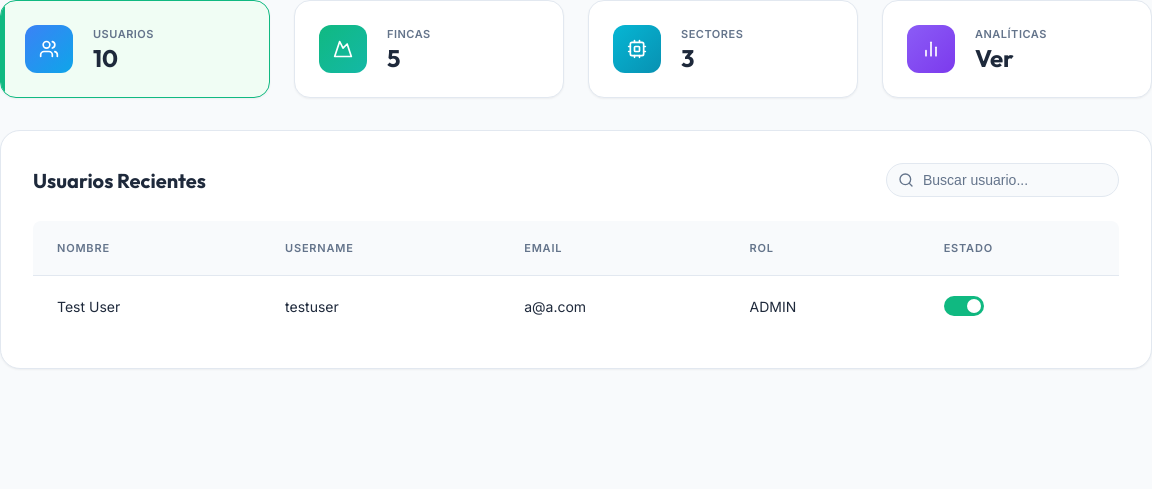
Test: Dashboard Page Component › should show User Stats when clicking Analíticas KPI
Expected: the heading "Usuarios Recientes" is shown, [33,168,206,192]
Step 1. Click the button "Analíticas Ver" → (1011, 34), box [882,0,1151,98]
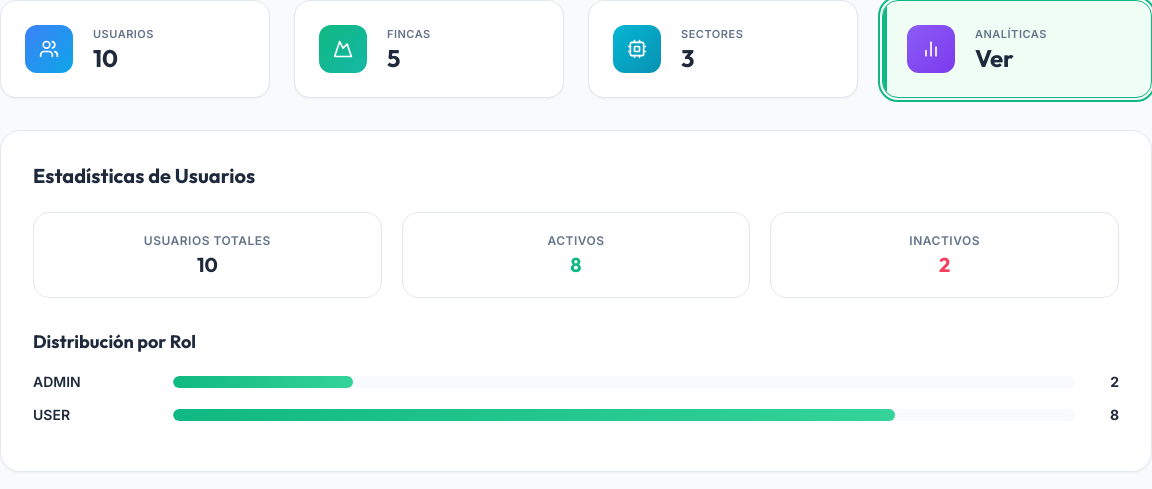
Result: the heading "Estadísticas de Usuarios" is shown at [33,163,255,188]
Result: the text "Usuarios Totales" is shown at [144,233,271,248]
